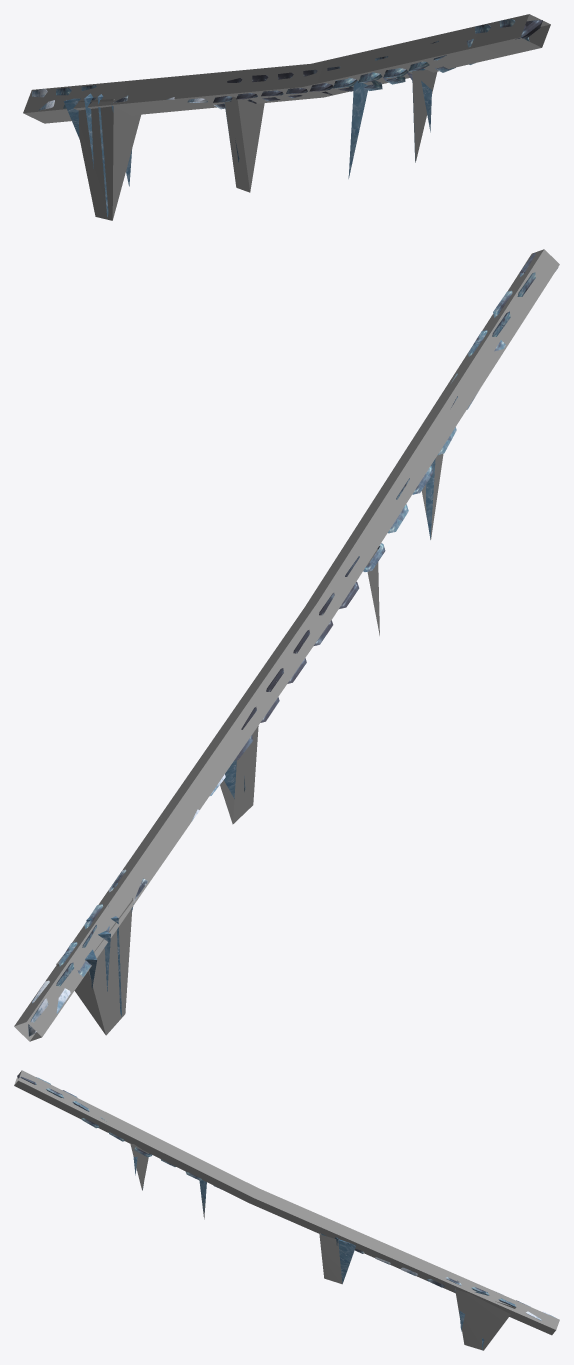
File: Scene_Build_TianShan_SuoLian_1a.FBX
3 renders of one model, top to bottom at view 1: azimuth 30°, elevation 25°; view 2: azimuth 150°, elevation 25°; view 3: azimuth 270°, elevation 25°, orthographic. The views are drawn at different scales.
Visible parts, largest first — view 1: Scene_Build_TianShan_SuoLian_1a_Xzm, Scene_Build_TianShan_SuoLian_1a; view 2: Scene_Build_TianShan_SuoLian_1a_Xzm, Scene_Build_TianShan_SuoLian_1a; view 3: Scene_Build_TianShan_SuoLian_1a_Xzm, Scene_Build_TianShan_SuoLian_1a.
Boxes of the visible parts, box(x1,y1,x2,y2) form: Scene_Build_TianShan_SuoLian_1a_Xzm: box(23, 14, 550, 220); Scene_Build_TianShan_SuoLian_1a: box(32, 19, 542, 217); Scene_Build_TianShan_SuoLian_1a_Xzm: box(14, 249, 559, 1041); Scene_Build_TianShan_SuoLian_1a: box(28, 253, 558, 1036); Scene_Build_TianShan_SuoLian_1a_Xzm: box(14, 1070, 559, 1350); Scene_Build_TianShan_SuoLian_1a: box(17, 1075, 555, 1349).
Size of the model in its own units: 258 by 1893 by 3421.
